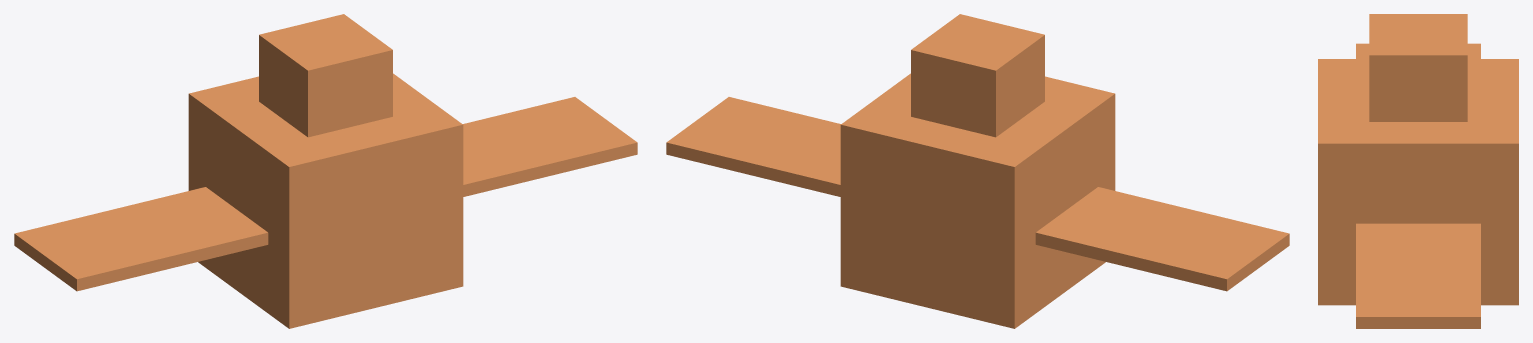
Rendered from mars.glb.
3 views of the same model, side by side, from view 1: azimuth 30°, elevation 25°; view 2: azimuth 150°, elevation 25°; view 3: azimuth 270°, elevation 25° (orthographic).
Visible parts, largest first — view 1: mars-node; view 2: mars-node; view 3: mars-node.
Part boxes in pixels (x1,y1,x2,y2): mars-node: [14, 14, 637, 328]; mars-node: [666, 14, 1289, 328]; mars-node: [1318, 14, 1518, 328].
Bounding box in the file's own units: 2.9 × 1.13 × 0.9.
